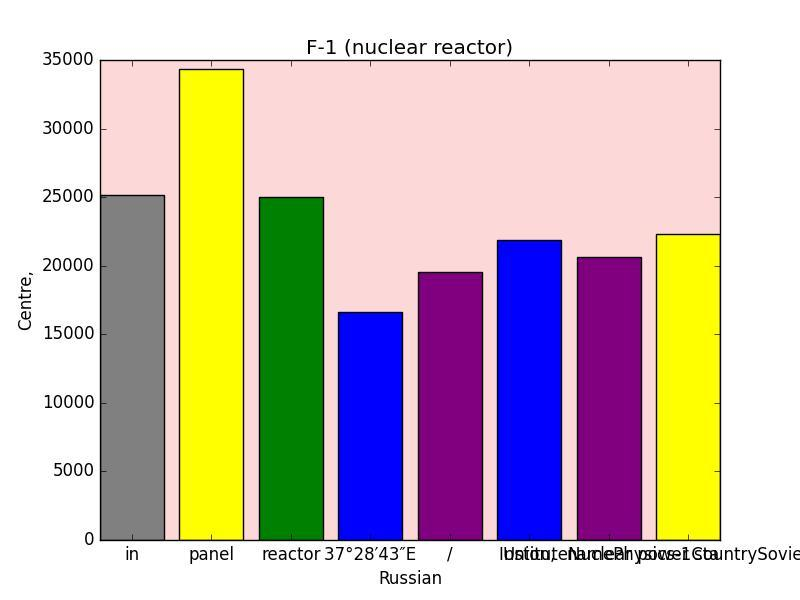axis: (18, 52, 94, 548)
rectangle: (180, 69, 244, 540), (100, 195, 164, 540), (259, 197, 323, 540), (656, 234, 720, 540), (497, 240, 561, 540), (576, 257, 640, 540), (418, 272, 482, 540), (338, 312, 403, 540)
